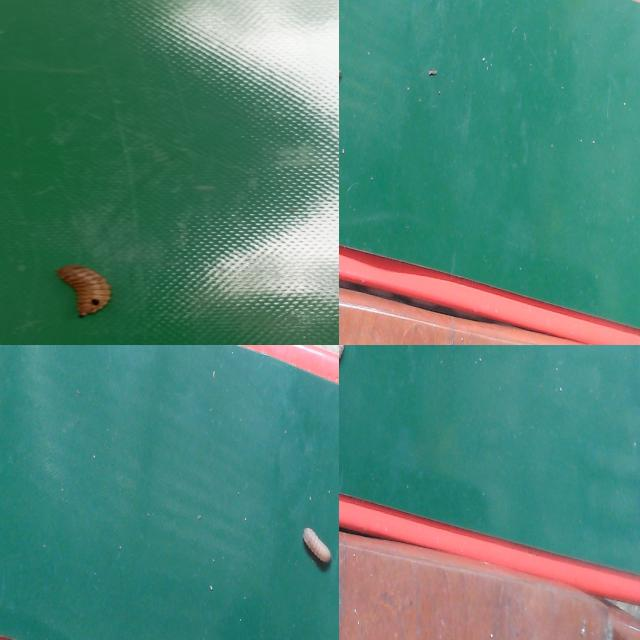Maggot: (57, 265, 112, 318), (302, 527, 335, 572), (339, 345, 348, 368)
